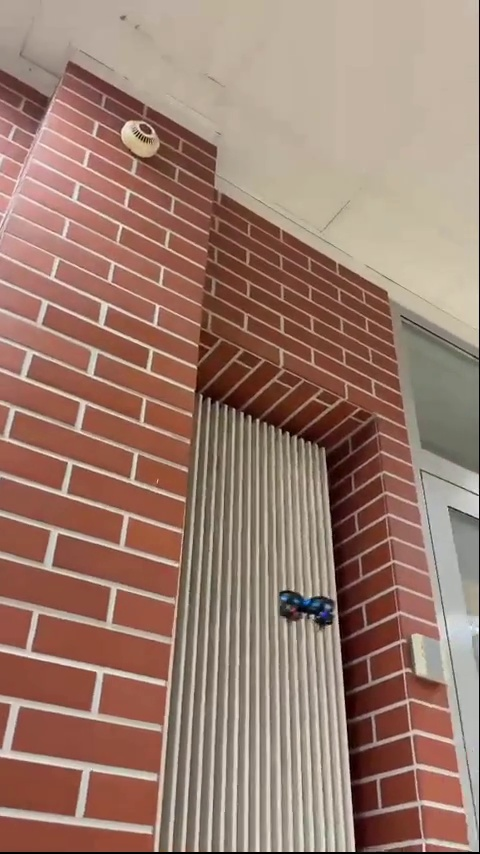drone: (280, 590, 337, 629)
